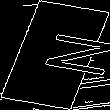N_W: (10, 29, 100, 81)
